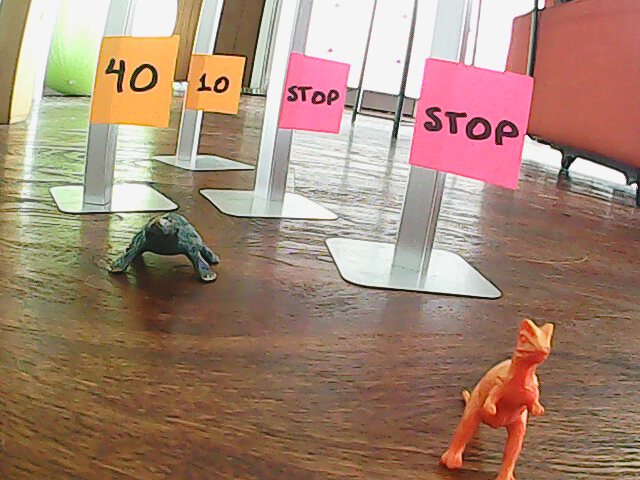10: (188, 59, 239, 110)
40: (95, 42, 171, 124)
dinosaur: (435, 314, 558, 480)
stop: (420, 74, 523, 158), (285, 64, 342, 123)
turtle: (103, 211, 223, 289)
